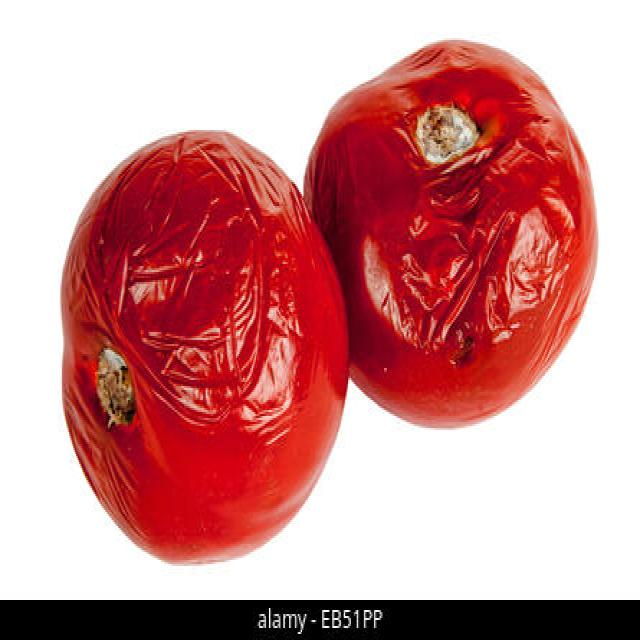overripe: (55, 128, 350, 568), (297, 32, 597, 424)
